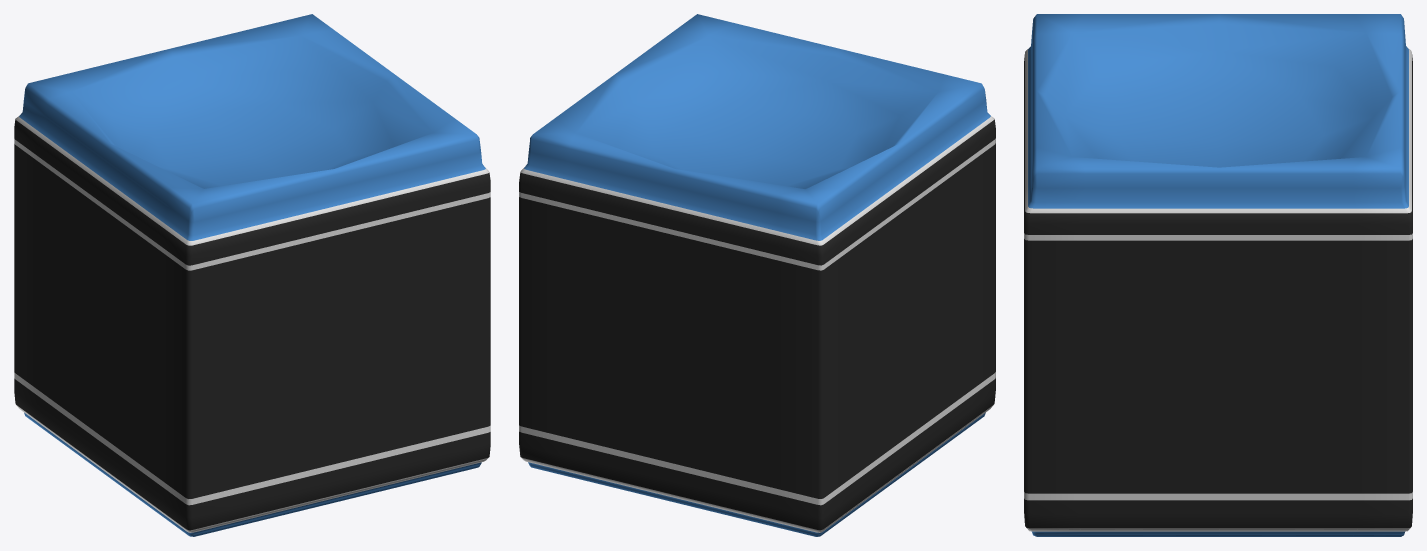
The model's file is PoolChalk.fbx.
The picture shows the model from 3 angles, left to right: view 1: azimuth 30°, elevation 25°; view 2: azimuth 150°, elevation 25°; view 3: azimuth 270°, elevation 25°; orthographic projection. The views are drawn at different scales.
Parts seen in each view (by area): view 1: Cube; view 2: Cube; view 3: Cube.
Boxes of the visible parts, box(x1,y1,x2,y2) form: Cube: box(14, 14, 490, 536); Cube: box(519, 14, 995, 536); Cube: box(1024, 14, 1412, 536).
Size of the model in its own units: 100 by 105 by 100.
